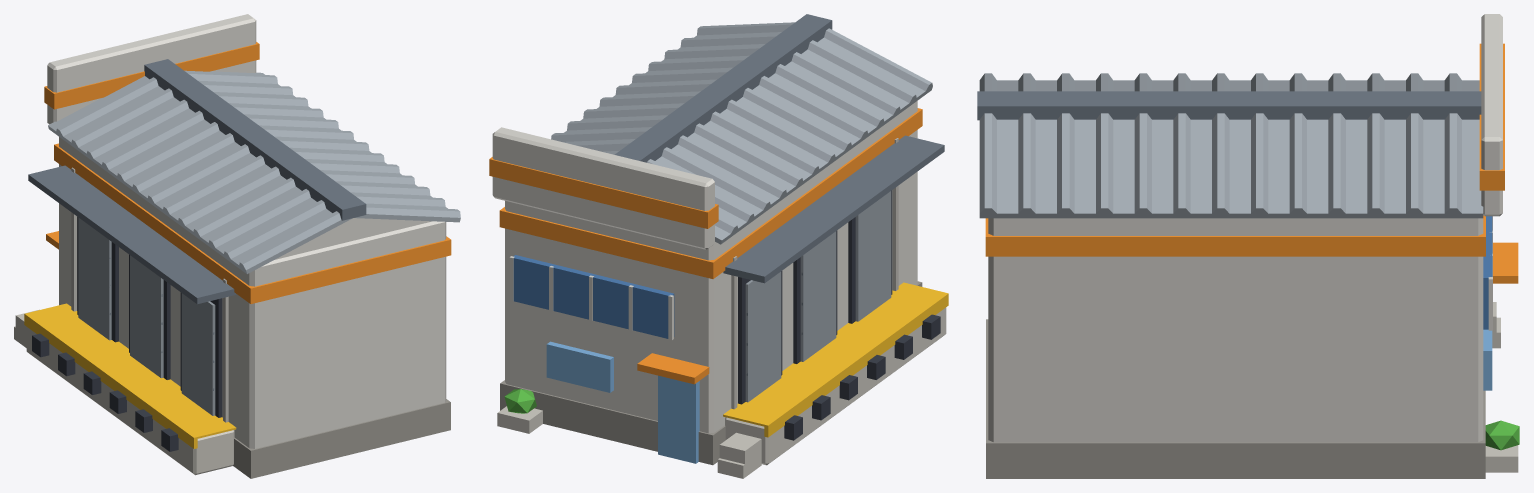
Rendered from galpao_carga.glb.
3 views of the same model, side by side, from view 1: azimuth 30°, elevation 25°; view 2: azimuth 150°, elevation 25°; view 3: azimuth 270°, elevation 25° (orthographic). The views are drawn at different scales.
Visible parts, largest first — view 1: corpo; view 2: corpo; view 3: corpo.
Boxes of the visible parts, left/top/right/bottom form: corpo: left=14, top=14, right=460, bottom=478; corpo: left=489, top=14, right=948, bottom=478; corpo: left=977, top=14, right=1519, bottom=478.
Bounding box in the file's own units: 0.8637 × 0.86 × 1.24.
